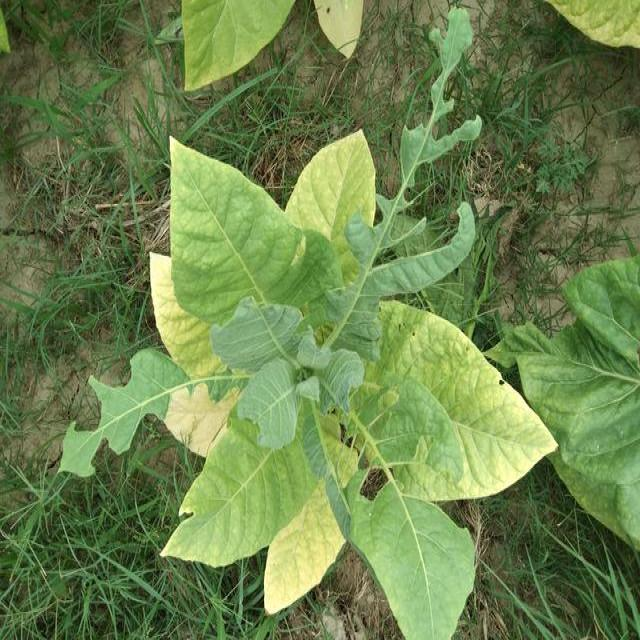crop: (140, 111, 565, 640)
